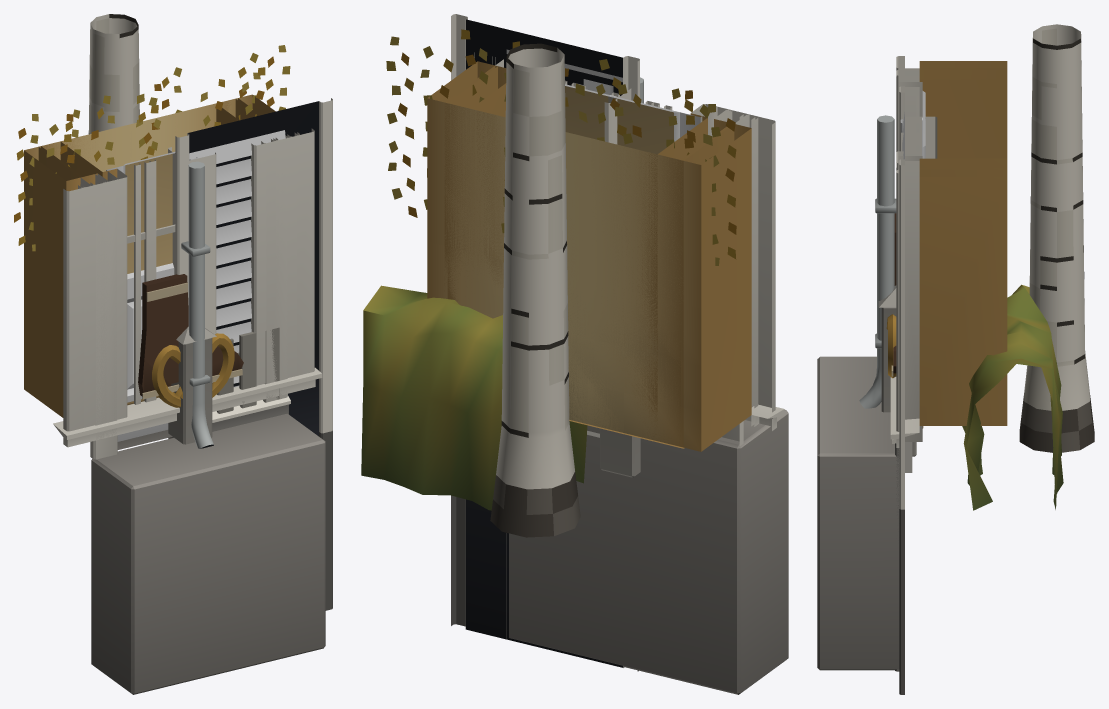
File: village.glb
3 renders of one model, left to right at view 1: azimuth 30°, elevation 25°; view 2: azimuth 150°, elevation 25°; view 3: azimuth 270°, elevation 25°, orthographic. The views are drawn at different scales.
Parts seen in each view (by area): view 1: dorr, fonster-boots, port, fonster-yarn, fonster-bread, fonster-candy, bjork, liggande, skylt-boots, ror, knut, grindstolpe (+3 smaller); view 2: dorr, fonster-yarn, fonster-boots, bjork, hack, fonster-bread, fonster-candy, port, grindstolpe; view 3: fonster-boots, dorr, bjork, fonster-bread, hack, ror, port, fonster-candy, fonster-yarn, grindstolpe, knut, skylt-bread.
Boxes of the visible parts, left/top/right/bottom form: dorr: left=90, top=135, right=325, bottom=694; fonster-boots: left=24, top=94, right=322, bottom=447; port: left=175, top=98, right=332, bottom=610; fonster-yarn: left=38, top=98, right=307, bottom=442; fonster-bread: left=60, top=108, right=285, bottom=437; fonster-candy: left=41, top=99, right=304, bottom=438; bjork: left=14, top=14, right=290, bottom=251; liggande: left=189, top=130, right=285, bottom=387; skylt-boots: left=138, top=274, right=243, bottom=399; ror: left=181, top=161, right=213, bottom=448; knut: left=168, top=147, right=216, bottom=382; grindstolpe: left=168, top=326, right=216, bottom=444; dorr: left=509, top=84, right=788, bottom=694; fonster-yarn: left=444, top=56, right=764, bottom=447; fonster-boots: left=427, top=52, right=784, bottom=451; bjork: left=386, top=29, right=736, bottom=537; hack: left=361, top=285, right=587, bottom=510; fonster-bread: left=471, top=83, right=731, bottom=436; fonster-candy: left=447, top=57, right=755, bottom=445; port: left=451, top=14, right=639, bottom=671; grindstolpe: left=600, top=428, right=640, bottom=477; fonster-boots: left=890, top=56, right=1007, bottom=447; dorr: left=817, top=69, right=925, bottom=670; bjork: left=1019, top=24, right=1094, bottom=452; fonster-bread: left=890, top=74, right=1007, bottom=416; hack: left=962, top=284, right=1063, bottom=510; ror: left=859, top=115, right=896, bottom=408; port: left=899, top=86, right=904, bottom=694; fonster-candy: left=896, top=64, right=1007, bottom=423; fonster-yarn: left=890, top=63, right=1007, bottom=427; grindstolpe: left=878, top=285, right=916, bottom=456; knut: left=899, top=116, right=937, bottom=158; skylt-bread: left=886, top=314, right=896, bottom=378.
Bounding box in the file's own units: 11.68 × 22.18 × 9.48.
